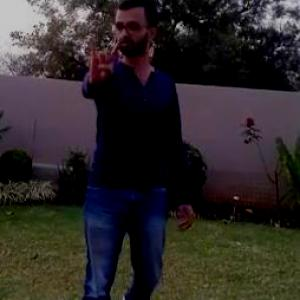takeoff-hand: (79, 28, 137, 94)
